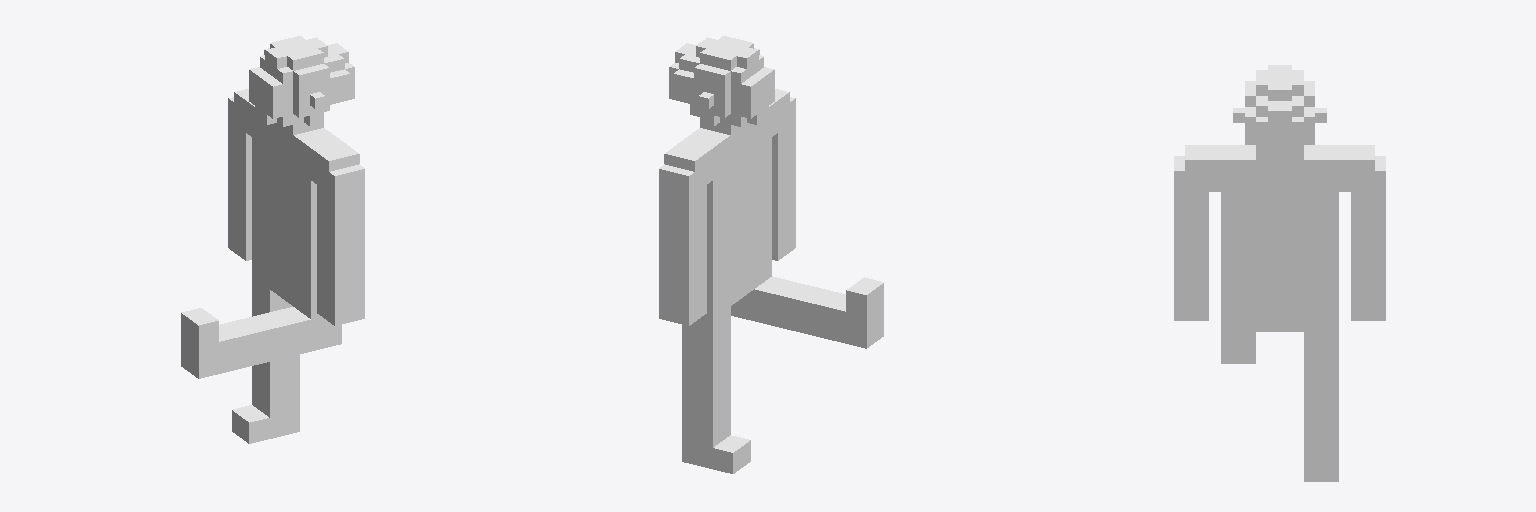
File: guy_step_right.obj
The picture shows the model from 3 angles: view 1: azimuth 30°, elevation 25°; view 2: azimuth 150°, elevation 25°; view 3: azimuth 270°, elevation 25°; orthographic projection.
Parts seen in each view (by area): view 1: object 1; view 2: object 1; view 3: object 1.
Part boxes in pixels (x1,y1,x2,y2): object 1: (181,36,364,443); object 1: (659,36,883,473); object 1: (1174,65,1385,481).
Bounding box in the file's own units: 1.7 × 3.7 × 1.8.